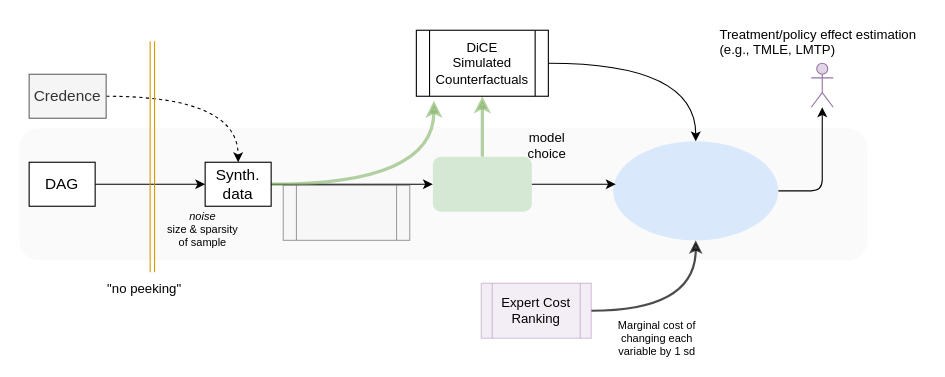
Some shapes in this 945 by 377 pixel diagram are drawn without their labels. Here are the shapes that lost their labels. From the top down, the centre of each, then its label:
(481,183): ML model
(695,190): Best policy & intervention options
(346,212): Statistical normalization of variables
